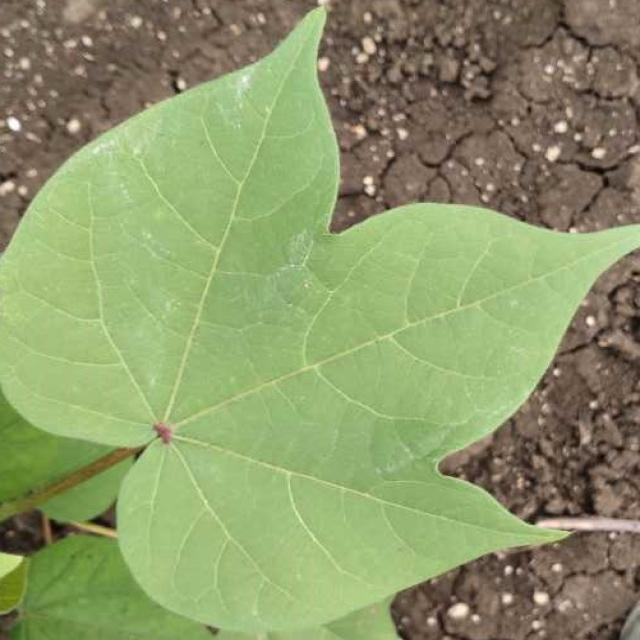Healthy Leaf: (9, 18, 640, 640)
